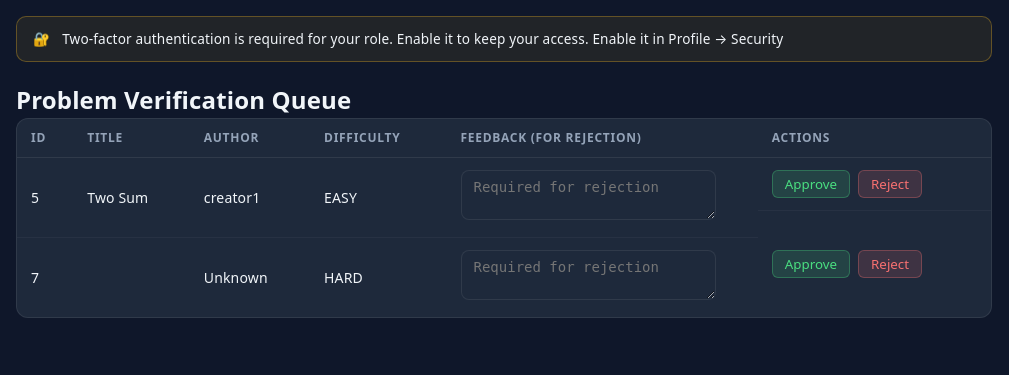
it: ProblemVerificationQueuePage (/admin/problem-queue) › shows the action error when approval fails
Check: the link "Two Sum" is shown, box [87,188,148,207]
Click the button "Approve" in the row of "Two Sum" at (811, 184), box [772,170,850,198]
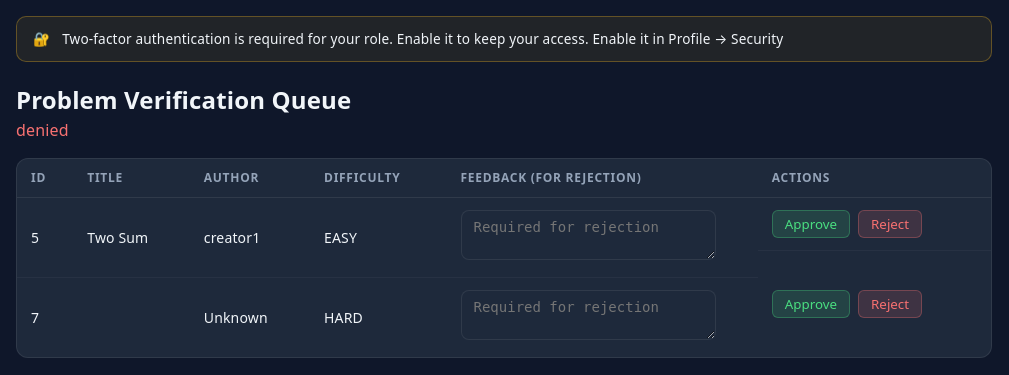
Check: the text "denied" is shown, box [16,119,69,141]
